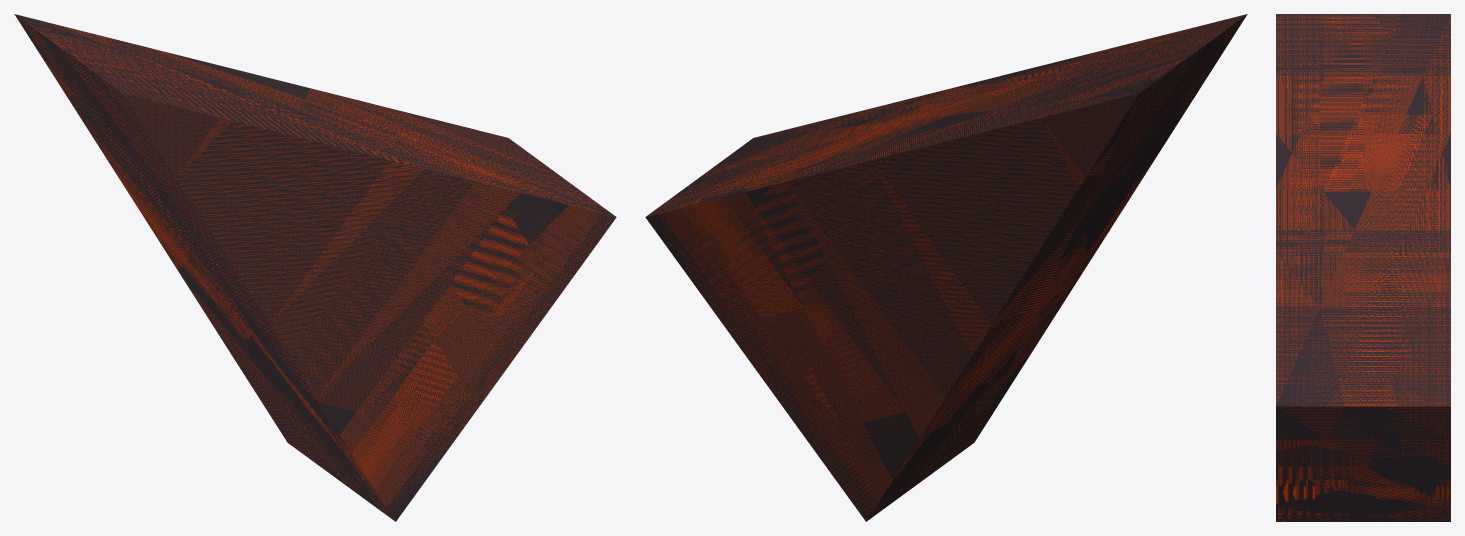
File: cake_black.dae
3 renders of one model, left to right at view 1: azimuth 30°, elevation 25°; view 2: azimuth 150°, elevation 25°; view 3: azimuth 270°, elevation 25°, orthographic. The views are drawn at different scales.
Parts seen in each view (by area): view 1: SketchUp; view 2: SketchUp; view 3: SketchUp.
Part boxes in pixels (x1,y1,x2,y2): SketchUp: [14, 14, 616, 521]; SketchUp: [645, 14, 1247, 521]; SketchUp: [1276, 14, 1450, 521].
Size of the model in its own units: 128 by 48.43 by 122.
